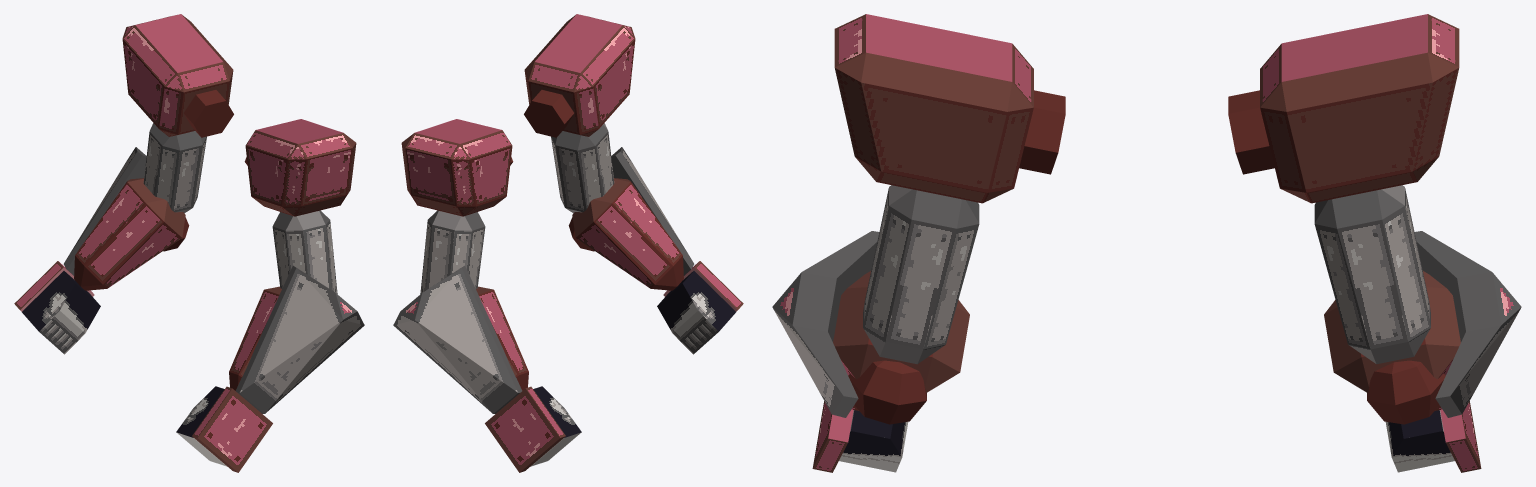
The model's file is MeleeArms.gltf.
3 views of the same model, side by side, from view 1: azimuth 30°, elevation 25°; view 2: azimuth 150°, elevation 25°; view 3: azimuth 270°, elevation 25° (orthographic). The views are drawn at different scales.
Parts seen in each view (by area): view 1: Shoulder (×2), BackGuard, ForeArm (×2), beveled_cuboid (×2), Hand (×2), HandGuard (×2), cylinder, FrontGuard; view 2: Shoulder (×2), FrontGuard, ForeArm (×2), beveled_cuboid (×2), Hand (×2), HandGuard (×2), cylinder, BackGuard; view 3: Shoulder (×2), beveled_cuboid (×2), ForeArm (×2), FrontGuard, BackGuard, sphere (×2), Hand (×2), cylinder (×2), HandGuard (×2).
Part boxes in pixels (x1=…): Shoulder (×2): x1=122, y1=14, x2=356, y2=216; BackGuard: x1=235, y1=265, x2=364, y2=413; ForeArm (×2): x1=74, y1=178, x2=281, y2=390; beveled_cuboid (×2): x1=143, y1=123, x2=337, y2=293; Hand (×2): x1=22, y1=271, x2=226, y2=466; HandGuard (×2): x1=14, y1=261, x2=272, y2=472; cylinder: x1=183, y1=90, x2=233, y2=137; FrontGuard: x1=63, y1=147, x2=146, y2=275; Shoulder (×2): x1=401, y1=14, x2=635, y2=216; FrontGuard: x1=393, y1=265, x2=522, y2=413; ForeArm (×2): x1=476, y1=178, x2=683, y2=390; beveled_cuboid (×2): x1=420, y1=123, x2=614, y2=293; Hand (×2): x1=531, y1=271, x2=735, y2=466; HandGuard (×2): x1=485, y1=261, x2=743, y2=472; cylinder: x1=524, y1=90, x2=574, y2=137; BackGuard: x1=611, y1=147, x2=694, y2=275; Shoulder (×2): x1=834, y1=14, x2=1459, y2=203; beveled_cuboid (×2): x1=863, y1=185, x2=1430, y2=364; ForeArm (×2): x1=833, y1=271, x2=1460, y2=410; FrontGuard: x1=1414, y1=231, x2=1521, y2=417; BackGuard: x1=772, y1=231, x2=879, y2=417; sphere (×2): x1=848, y1=360, x2=1445, y2=424; Hand (×2): x1=839, y1=410, x2=1454, y2=472; cylinder (×2): x1=1019, y1=90, x2=1274, y2=174; HandGuard (×2): x1=812, y1=401, x2=1481, y2=472.
Bounding box in the file's own units: 0.6258 × 1.06 × 1.37.
1 material, 1 textured.
